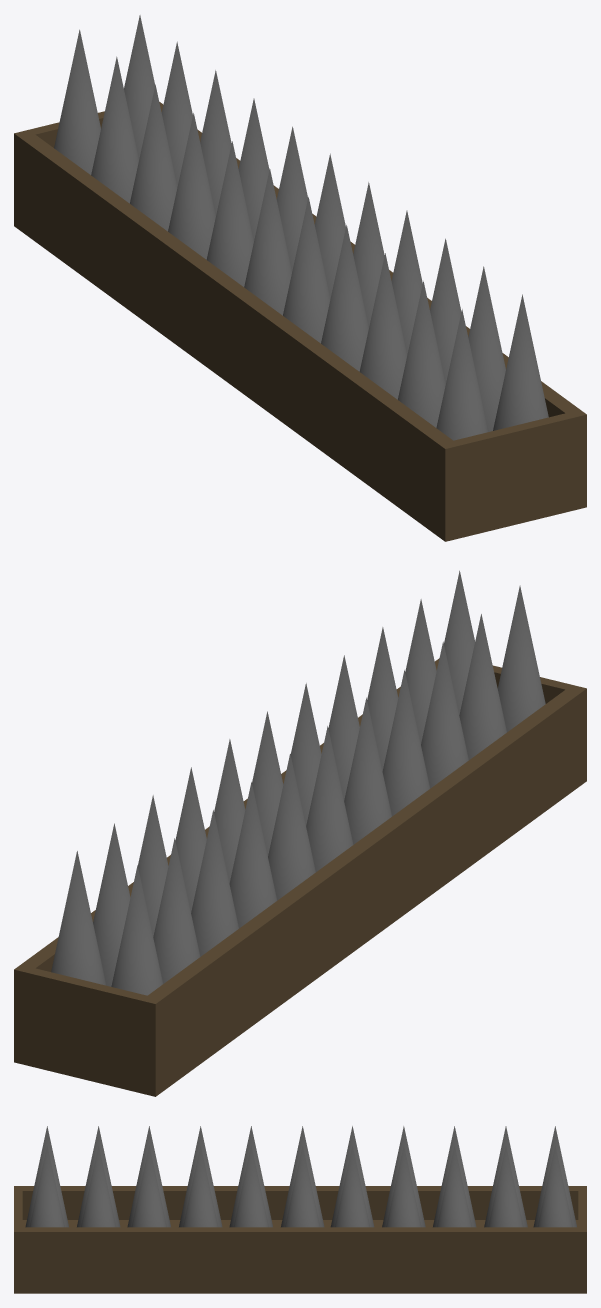
File: CJSpikes3.fbx
3 renders of one model, top to bottom at view 1: azimuth 30°, elevation 25°; view 2: azimuth 150°, elevation 25°; view 3: azimuth 270°, elevation 25°, orthographic. The views are drawn at different scales.
Parts seen in each view (by area): view 1: group_pasted__pCone1; view 2: group_pasted__pCone1; view 3: group_pasted__pCone1.
Boxes of the visible parts, x1,y1,x2,y2 form: group_pasted__pCone1: (14,15,586,541); group_pasted__pCone1: (14,570,586,1096); group_pasted__pCone1: (14,1126,586,1293).
Bounding box in the file's own units: 47.53 × 65.61 × 251.
